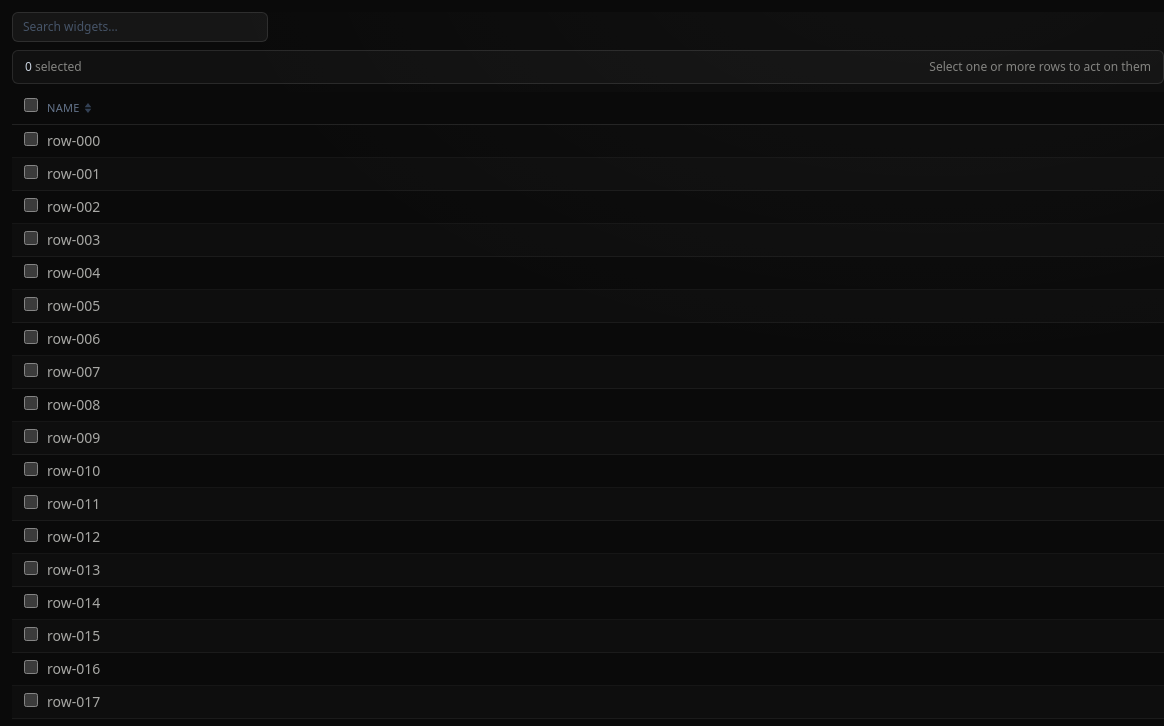
Test: DataTable — selection › ⭐ A SELECTION HIDDEN BY A FILTER IS COUNTED AND SAID OUT LOUD
Click the checkbox named "Select all 25 on this page": (31, 105) [24,98,38,112]
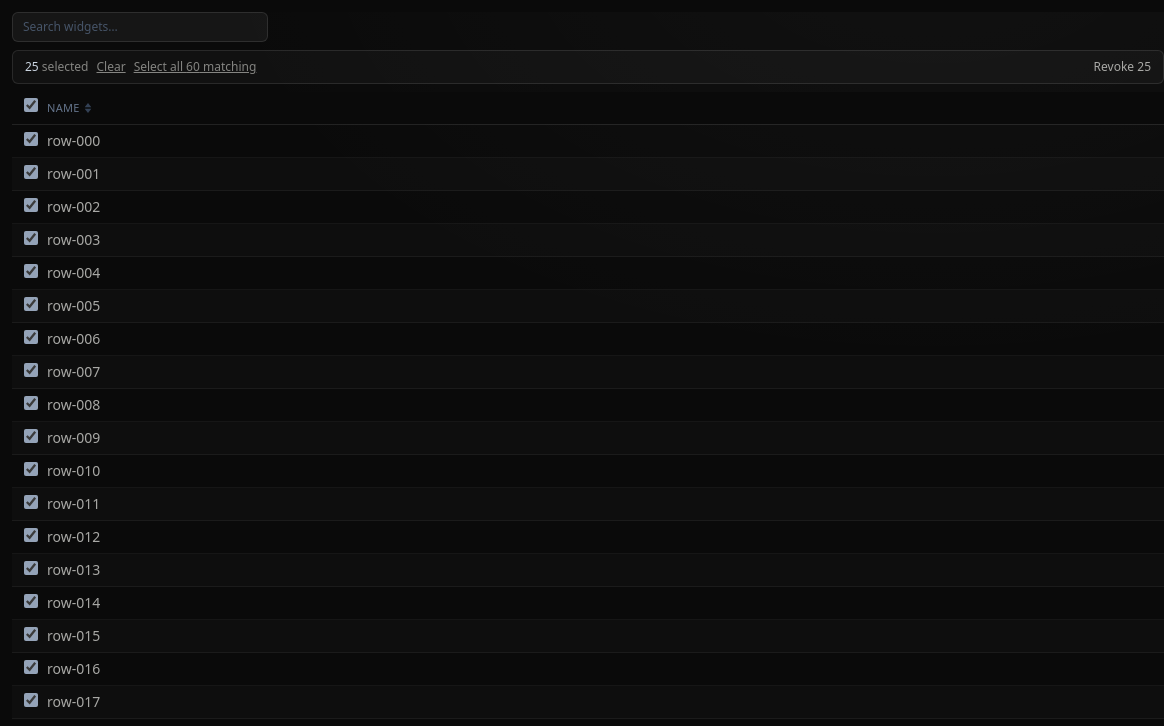
In the search field named "Filter Widgets": (140, 27) [12,12,268,42], type "ana@ex.com"
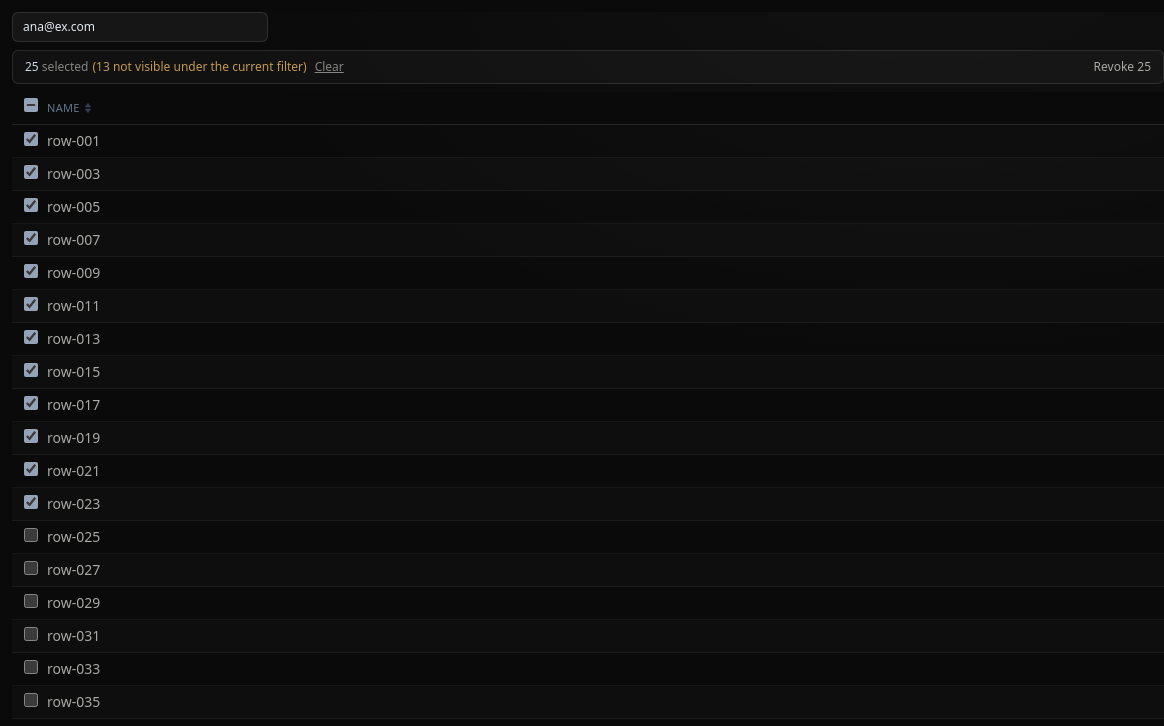
Check: the text "(13 not visible under the current filter)" is shown, box [92,58,307,75]
